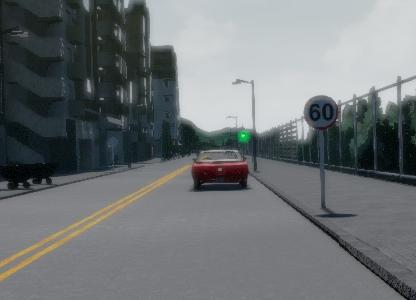Speed_60: (303, 93, 338, 131)
